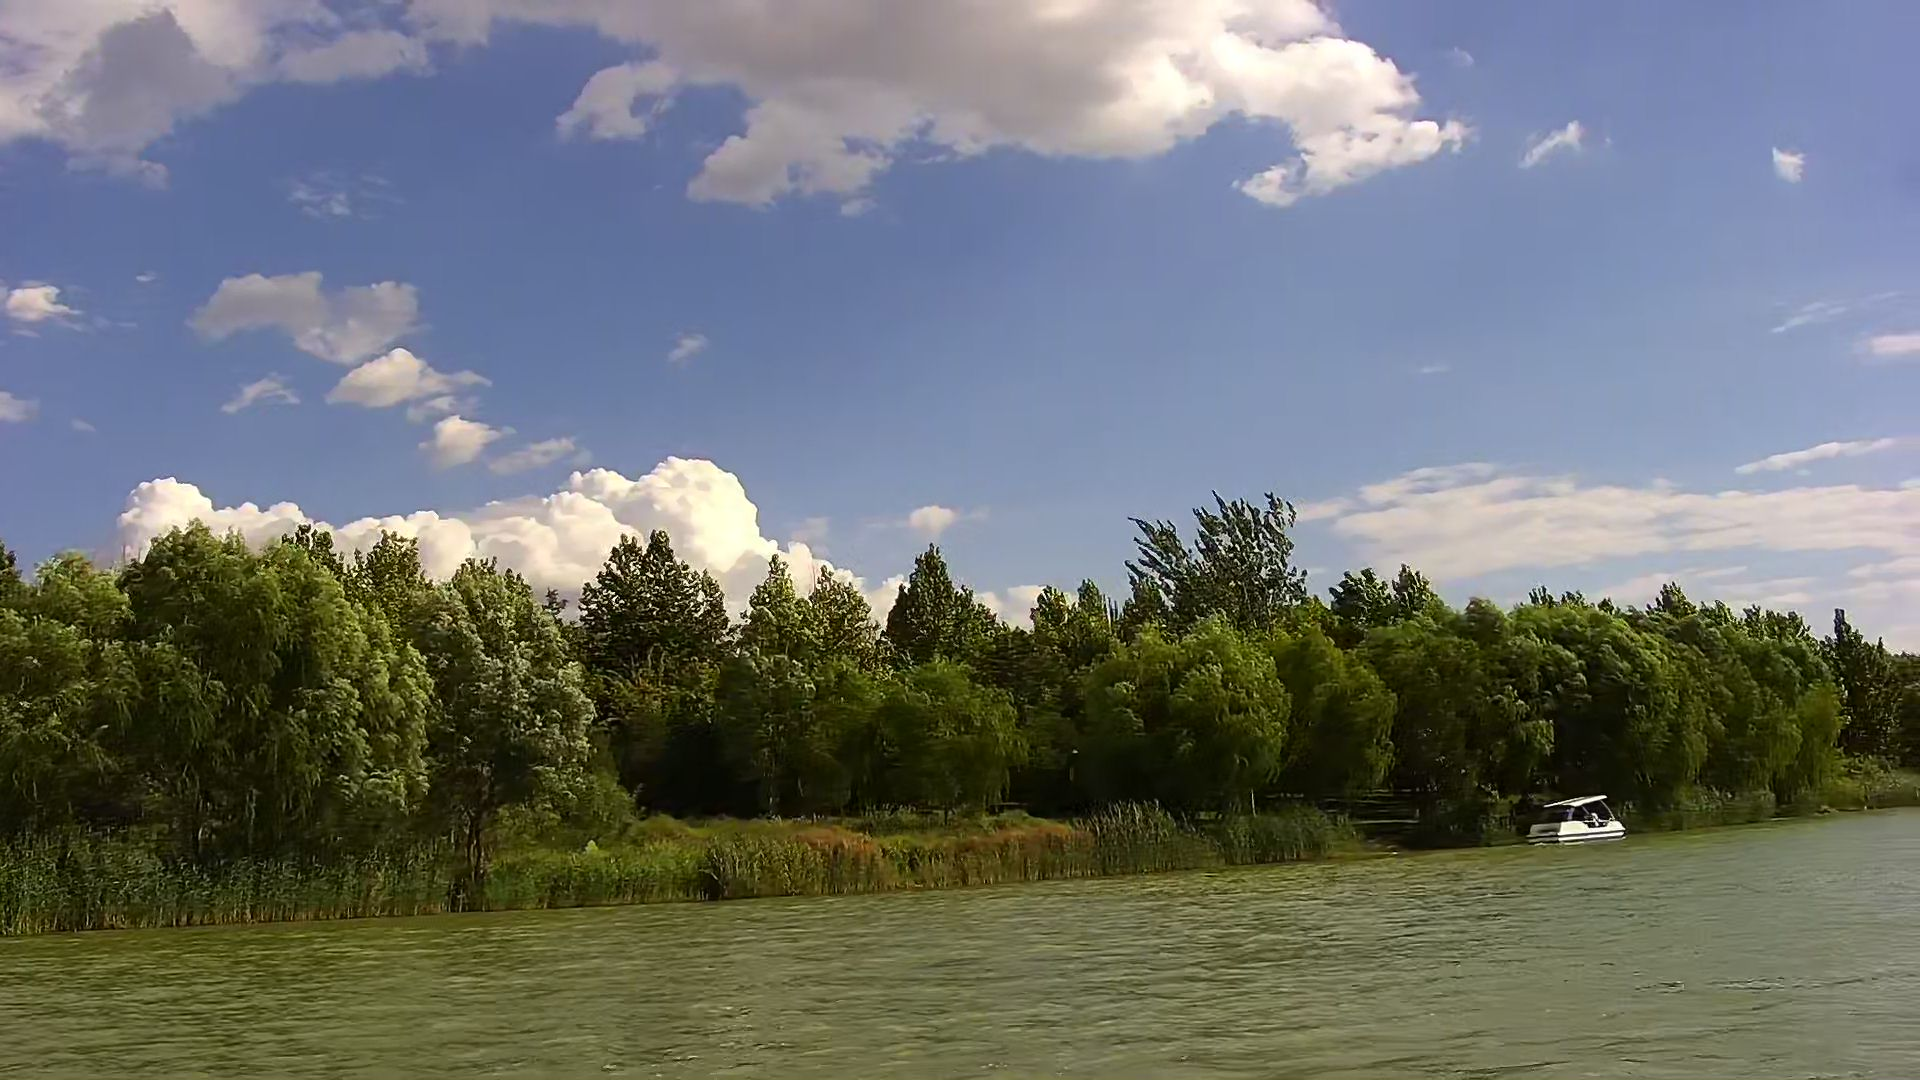boat: (1528, 793, 1625, 841)
